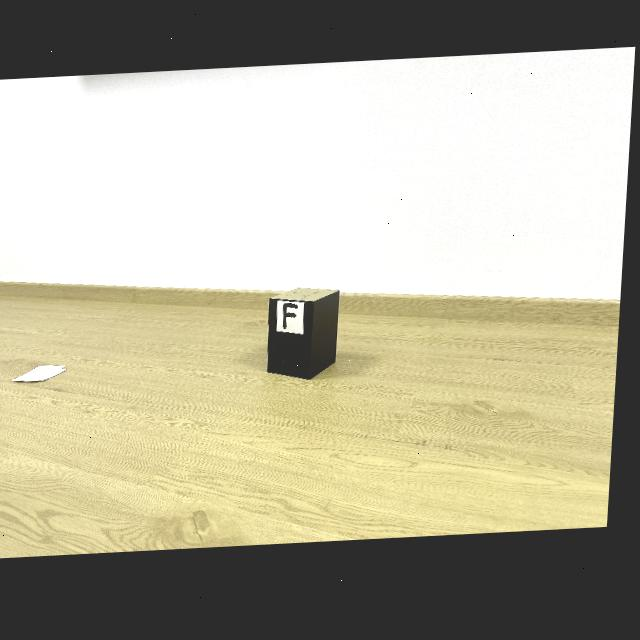F: (286, 306, 302, 332)
